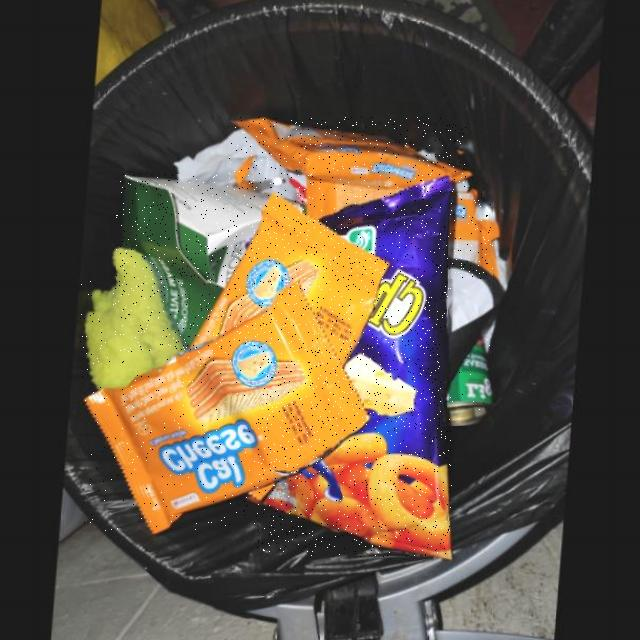metal: (441, 336, 490, 425)
paper: (117, 174, 264, 349)
wrapper: (257, 173, 452, 556), (80, 281, 365, 533), (177, 192, 384, 367), (229, 117, 466, 188), (301, 178, 399, 219), (449, 187, 493, 278)
